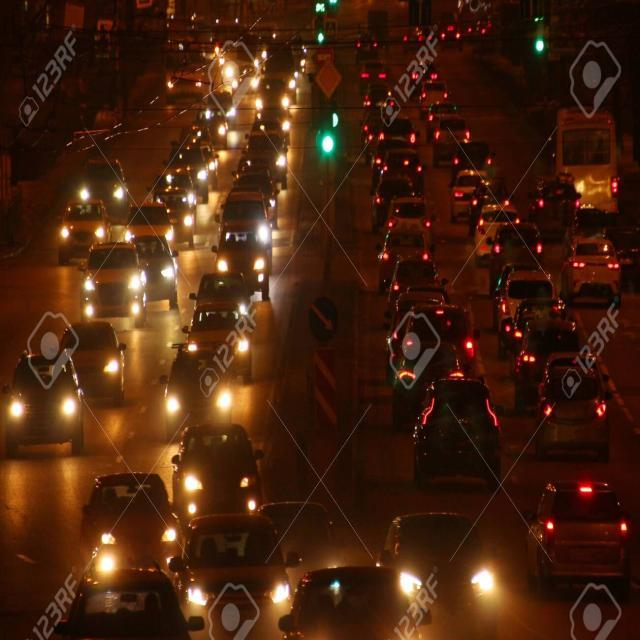headlights: (392, 555, 496, 609), (187, 574, 291, 614), (156, 386, 248, 422), (4, 394, 89, 429), (84, 519, 181, 549), (175, 330, 257, 361), (77, 294, 151, 322), (74, 268, 144, 297), (182, 496, 262, 518), (213, 251, 272, 278), (120, 219, 179, 245), (55, 222, 108, 241)
